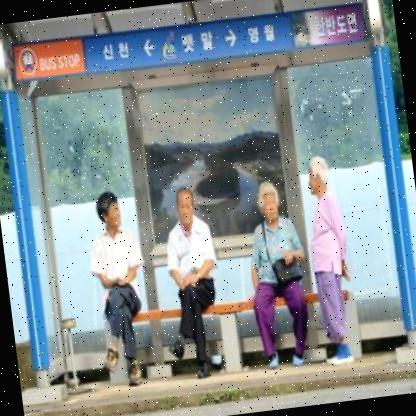person: (232, 172, 327, 393), (71, 183, 165, 398), (145, 178, 237, 386), (294, 146, 368, 371)
